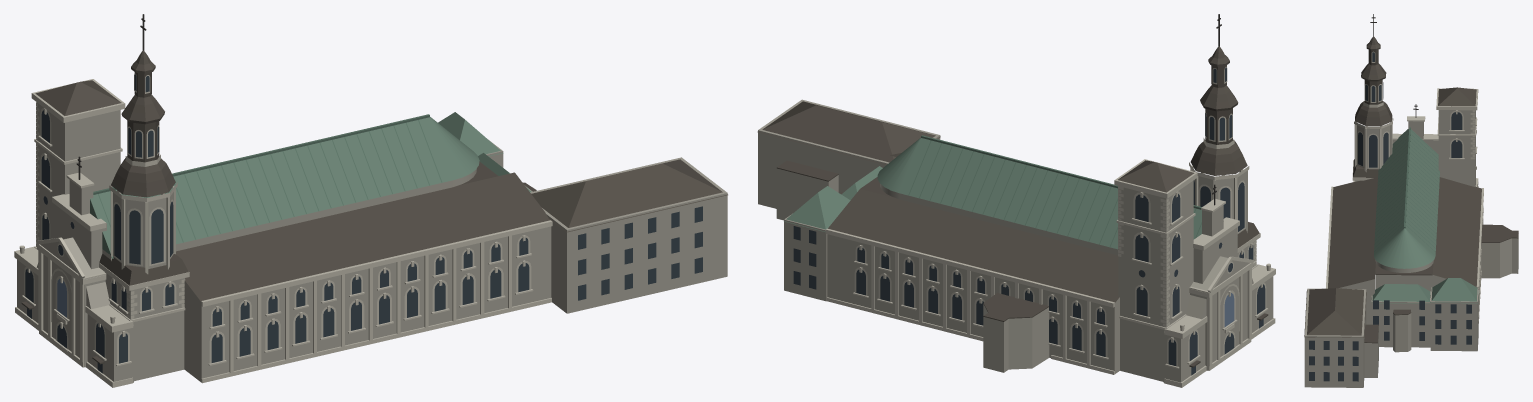
File: notre-dame-de-quebec-near.glb
The picture shows the model from 3 angles, left to right: view 1: azimuth 30°, elevation 25°; view 2: azimuth 150°, elevation 25°; view 3: azimuth 270°, elevation 25°; orthographic projection. The views are drawn at different scales.
Visible parts, largest first — view 1: notre-dame-de-quebec-0-stone, notre-dame-de-quebec-0-slate, notre-dame-de-quebec-0-trim, notre-dame-de-quebec-0-copper, notre-dame-de-quebec-0-glass, notre-dame-de-quebec-0-seam; view 2: notre-dame-de-quebec-0-stone, notre-dame-de-quebec-0-slate, notre-dame-de-quebec-0-trim, notre-dame-de-quebec-0-copper, notre-dame-de-quebec-0-glass, notre-dame-de-quebec-0-seam; view 3: notre-dame-de-quebec-0-slate, notre-dame-de-quebec-0-stone, notre-dame-de-quebec-0-copper, notre-dame-de-quebec-0-trim, notre-dame-de-quebec-0-glass, notre-dame-de-quebec-0-seam.
Boxes of the visible parts, x1,y1,x2,y2 form: notre-dame-de-quebec-0-stone: (17,102,727,382); notre-dame-de-quebec-0-slate: (21,50,727,364); notre-dame-de-quebec-0-trim: (14,73,552,387); notre-dame-de-quebec-0-copper: (90,112,531,258); notre-dame-de-quebec-0-glass: (25,74,702,373); notre-dame-de-quebec-0-seam: (93,114,442,242); notre-dame-de-quebec-0-stone: (758,99,1273,382); notre-dame-de-quebec-0-slate: (757,46,1268,367); notre-dame-de-quebec-0-trim: (825,66,1275,387); notre-dame-de-quebec-0-copper: (784,138,1237,249); notre-dame-de-quebec-0-glass: (793,67,1265,375); notre-dame-de-quebec-0-seam: (908,135,1201,246); notre-dame-de-quebec-0-slate: (1304,36,1518,343); notre-dame-de-quebec-0-stone: (1304,110,1518,387); notre-dame-de-quebec-0-copper: (1371,129,1478,303); notre-dame-de-quebec-0-trim: (1326,51,1483,323); notre-dame-de-quebec-0-glass: (1309,52,1471,381); notre-dame-de-quebec-0-seam: (1374,127,1439,252).
Size of the model in its own units: 90.87 by 52.3 by 47.24.
